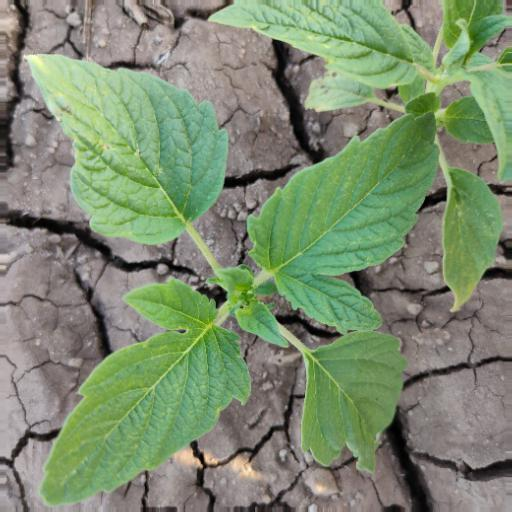crop: (22, 38, 505, 510), (192, 4, 512, 305)
